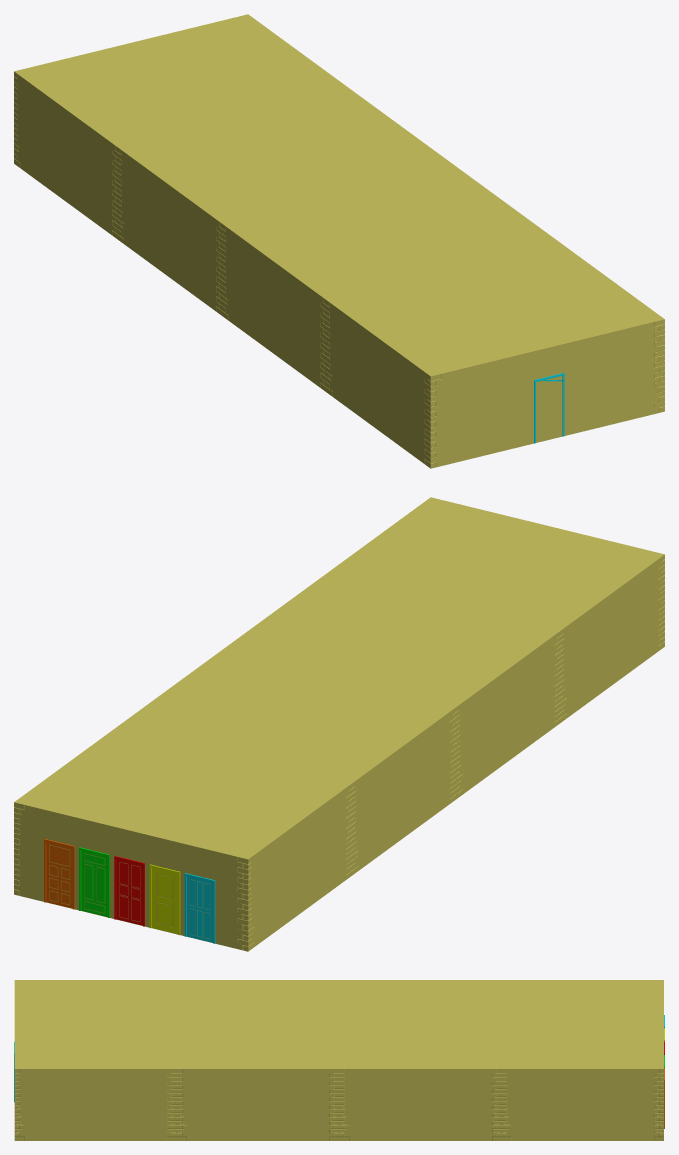
Rendered from Doors_Room.fbx.
3 renders of one model, top to bottom at view 1: azimuth 30°, elevation 25°; view 2: azimuth 150°, elevation 25°; view 3: azimuth 270°, elevation 25°, orthographic. The views are drawn at different scales.
Visible parts, largest first — view 1: Room_01; view 2: Room_01, Door_05.001, Door_01.002, Door_09, Door_04.001, Door_08; view 3: Room_01.
Part boxes in pixels (<box>): Room_01: <box>14,14,664,468</box>; Room_01: <box>14,497,664,951</box>; Door_05.001: <box>81,850,107,916</box>; Door_01.002: <box>116,859,142,925</box>; Door_09: <box>46,842,72,908</box>; Door_04.001: <box>151,867,177,934</box>; Door_08: <box>186,876,212,942</box>; Room_01: <box>14,980,663,1140</box>.
Bounding box in the file's own units: 934 × 351 × 2885.
